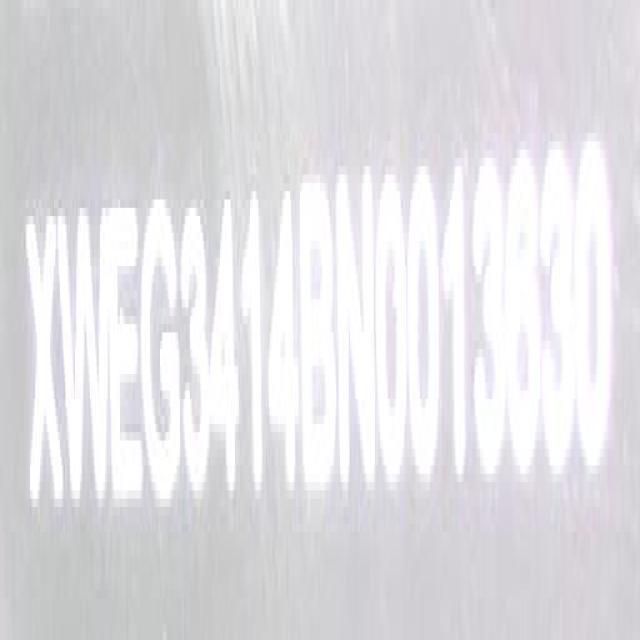0: (577, 132, 615, 486), (409, 158, 442, 501), (380, 162, 412, 504)
1: (442, 150, 471, 495), (242, 179, 268, 513)
3: (544, 137, 580, 490), (473, 147, 508, 493), (183, 194, 213, 518)
4: (209, 175, 242, 505), (268, 174, 299, 512)
6: (507, 144, 542, 498)
B: (300, 172, 340, 508)
E: (109, 196, 145, 521)
G: (141, 197, 182, 505)
N: (336, 160, 376, 505)
W: (62, 201, 112, 528)
X: (26, 205, 66, 534)
